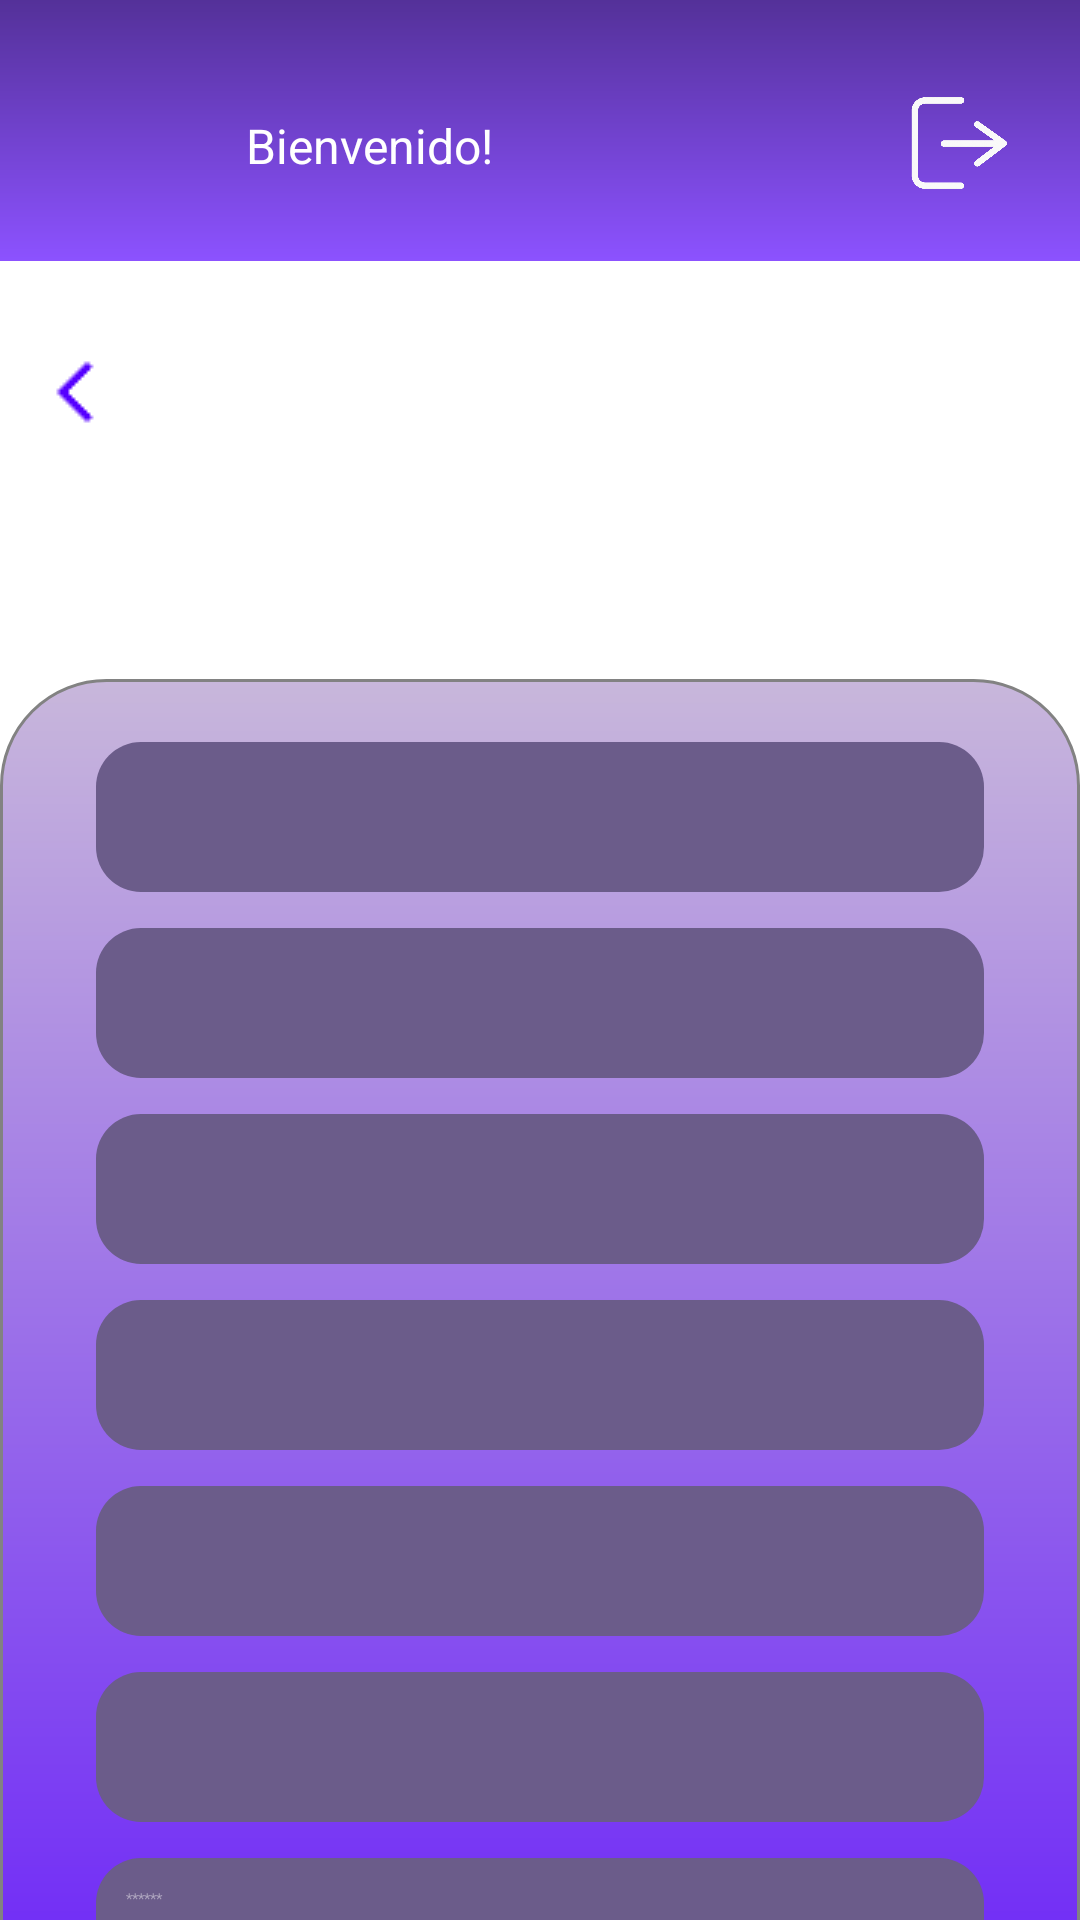

Point at icon controls on the screen. Image size 1080*1920, points as [x,y].
back: [75,392]
salir: [957,145]
